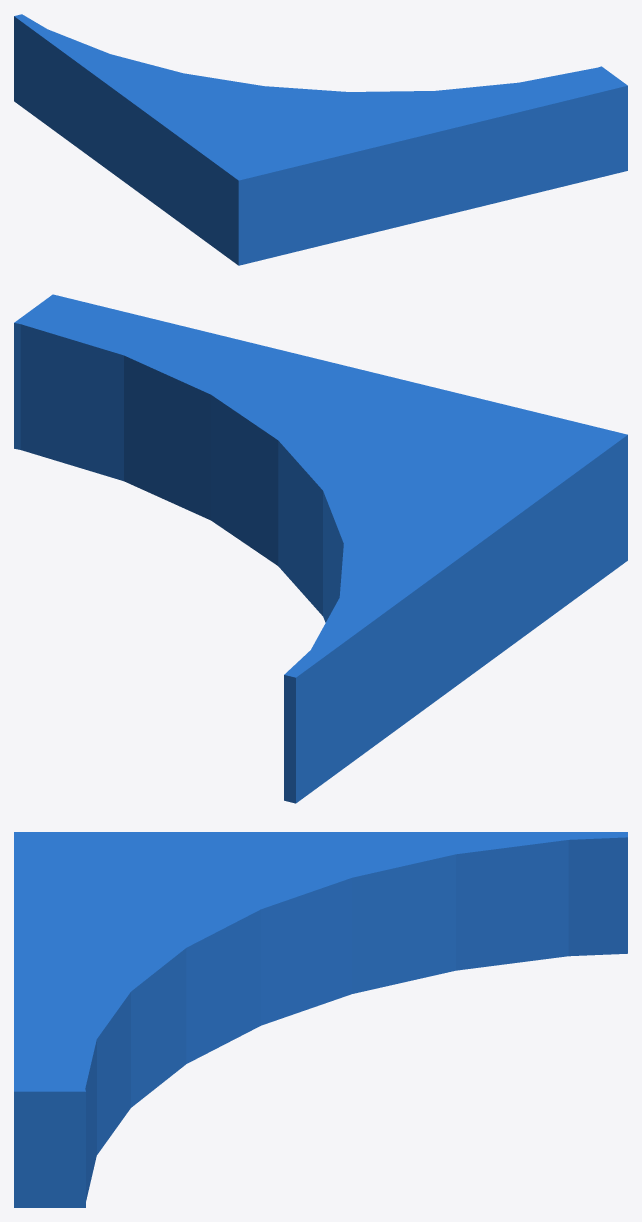
The picture shows the model from 3 angles, top to bottom: view 1: azimuth 30°, elevation 25°; view 2: azimuth 150°, elevation 25°; view 3: azimuth 270°, elevation 25°; orthographic projection. The views are drawn at different scales.
Parts seen in each view (by area): view 1: Cube; view 2: Cube; view 3: Cube.
Part boxes in pixels (box(x1,y1,x2,y2)): Cube: box(14, 14, 627, 265); Cube: box(14, 294, 627, 803); Cube: box(14, 832, 627, 1207).
Size of the model in its own units: 5.06 by 1.06 by 5.06.
